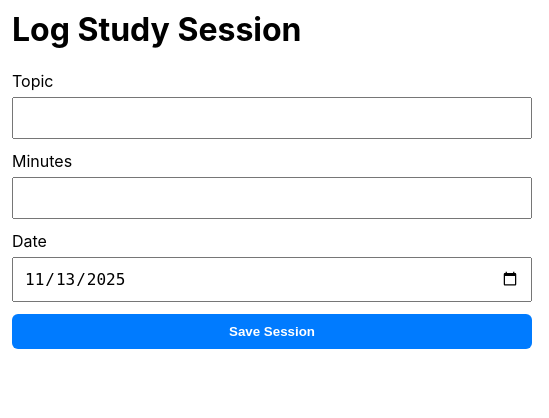
Test: Study page › validates inputs and shows errors
Click the button "Save Session".
click(272, 331)  # box [12,314,532,349]
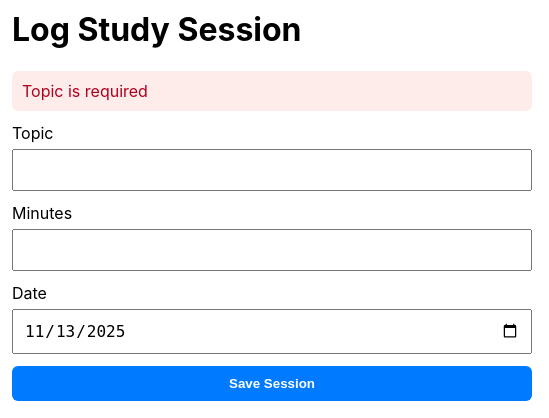
Expected: the message reads "Topic is required", [22,81,148,101]
